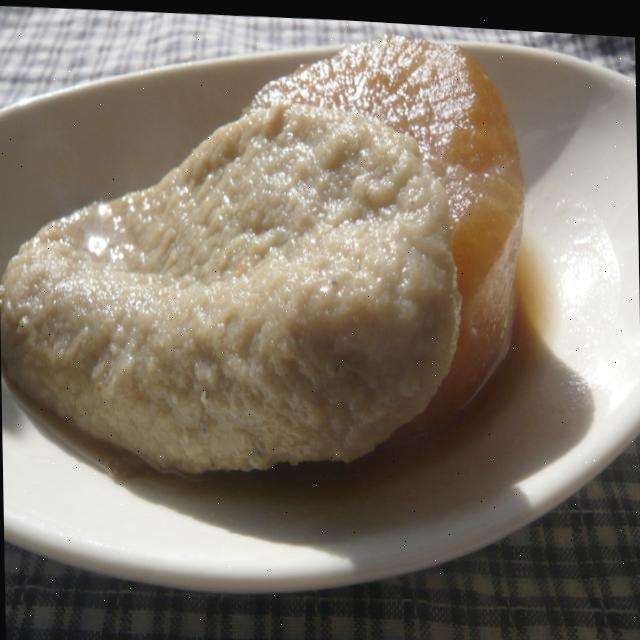汤锅炖物: (0, 7, 523, 495)
